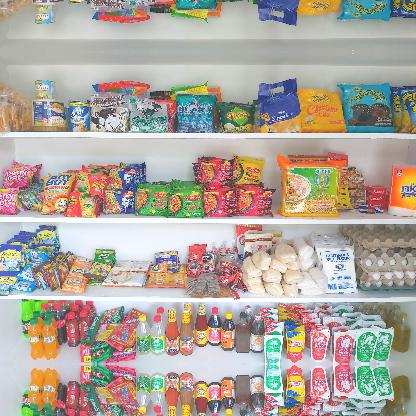Lady-s-Choice: (32, 99, 68, 132)
